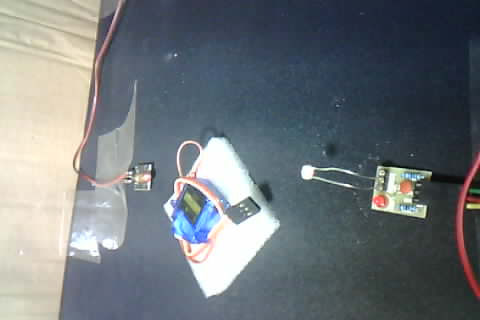motor: (158, 134, 280, 294)
